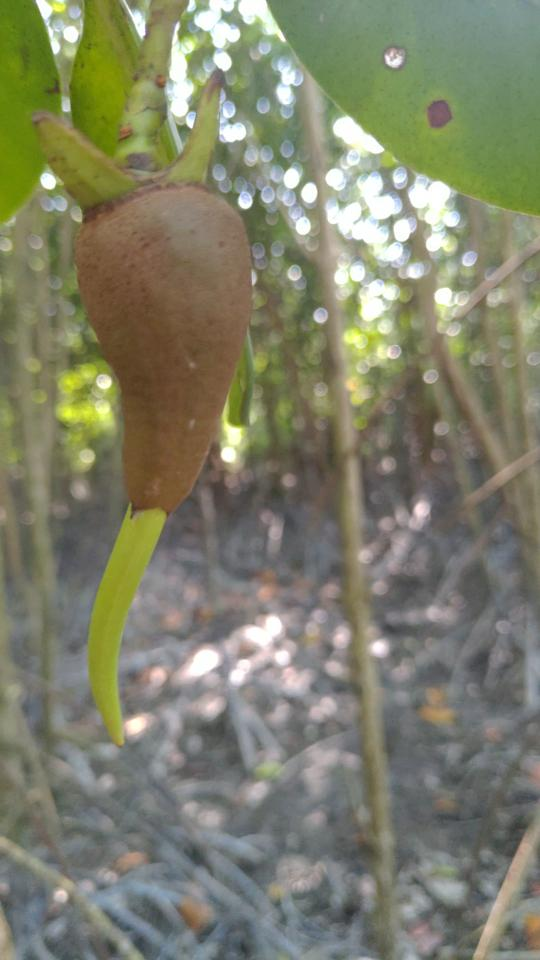mentah: (17, 44, 274, 762)
